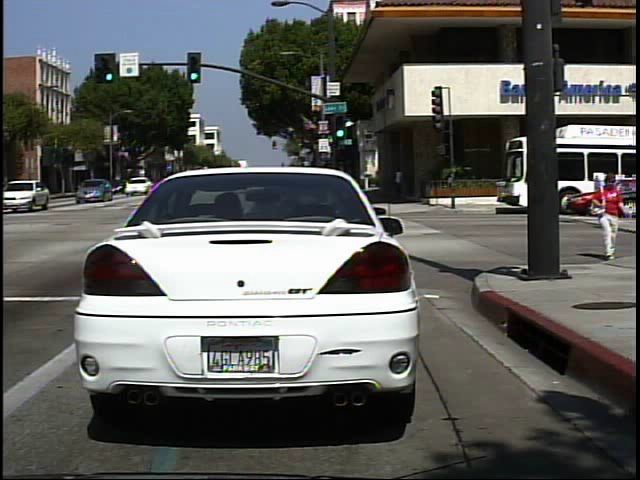person: (588, 170, 629, 261), (392, 166, 410, 203)
